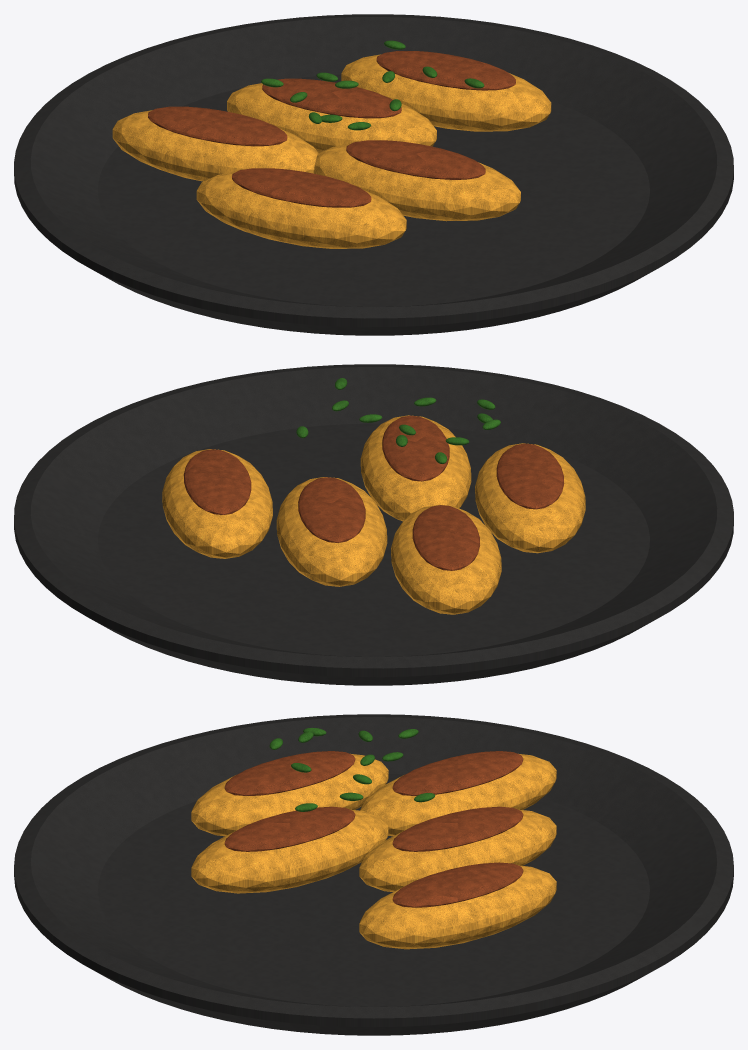
Rendered from maduros-panela.glb.
3 views of the same model, one above another, from view 1: azimuth 30°, elevation 25°; view 2: azimuth 150°, elevation 25°; view 3: azimuth 270°, elevation 25° (orthographic).
Visible parts, largest first — view 1: part0, part1, part2, part3; view 2: part0, part1, part2, part3; view 3: part0, part1, part2, part3.
Boxes of the visible parts, bbox=[...] form: part0: bbox=[14, 14, 733, 335]; part1: bbox=[112, 54, 551, 248]; part2: bbox=[148, 51, 515, 207]; part3: bbox=[261, 40, 484, 130]; part0: bbox=[14, 364, 733, 685]; part1: bbox=[162, 415, 585, 614]; part2: bbox=[183, 415, 564, 570]; part3: bbox=[296, 378, 500, 463]; part0: bbox=[14, 714, 733, 1035]; part1: bbox=[191, 753, 556, 949]; part2: bbox=[224, 751, 523, 907]; part3: bbox=[269, 727, 435, 811].
Size of the model in its own units: 0.3 by 0.0665 by 0.3.
Materials: 4 (4 with a texture image).
